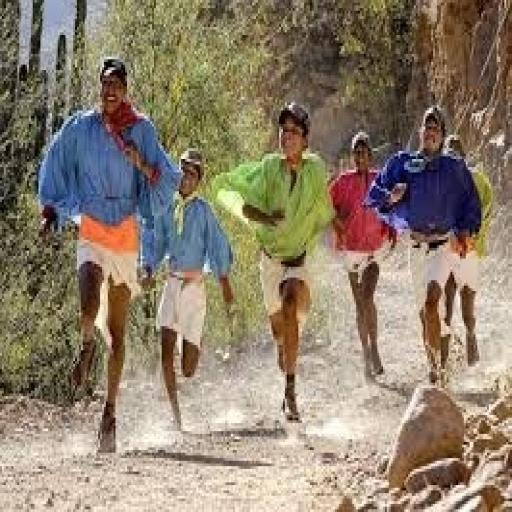running: (34, 54, 186, 455), (210, 97, 337, 428), (362, 102, 487, 388), (146, 143, 241, 436), (328, 127, 400, 385)
